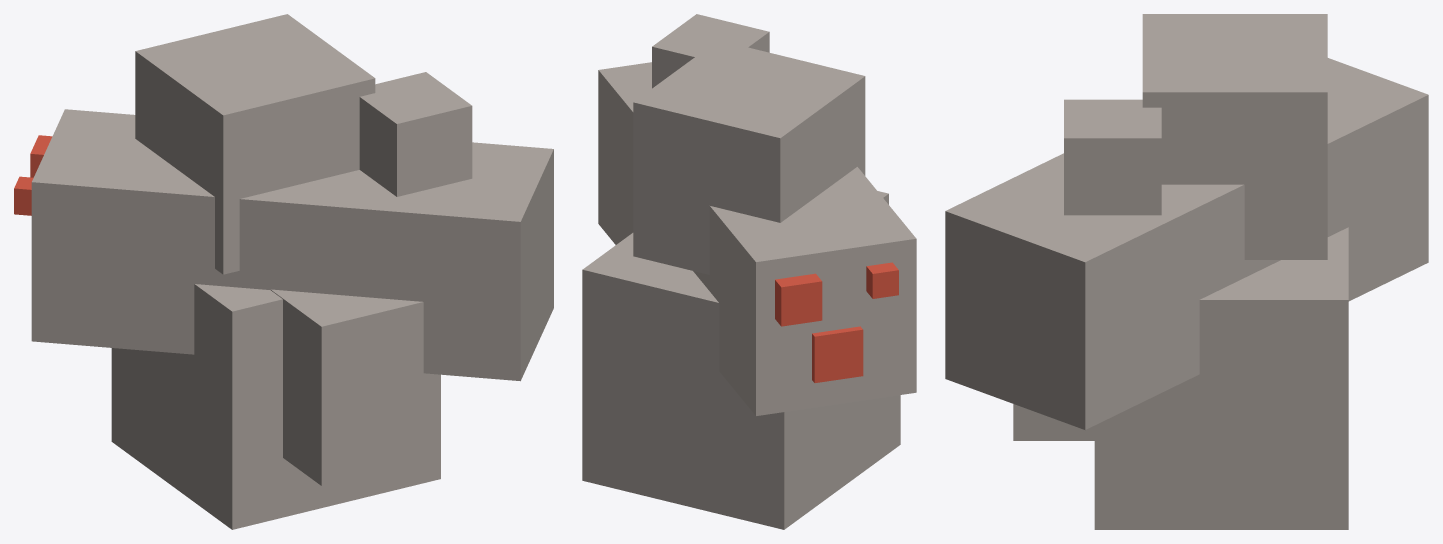
The model's file is Warlock4.fbx.
3 views of the same model, side by side, from view 1: azimuth 30°, elevation 25°; view 2: azimuth 150°, elevation 25°; view 3: azimuth 270°, elevation 25° (orthographic). The views are drawn at different scales.
Visible parts, largest first — view 1: Cube.051; view 2: Cube.051; view 3: Cube.051.
Boxes of the visible parts, box(x1,y1,x2,y2) form: Cube.051: box(14, 14, 553, 529); Cube.051: box(582, 14, 916, 529); Cube.051: box(945, 14, 1428, 529).
Bounding box in the file's own units: 1.47 × 1.3 × 1.37.
